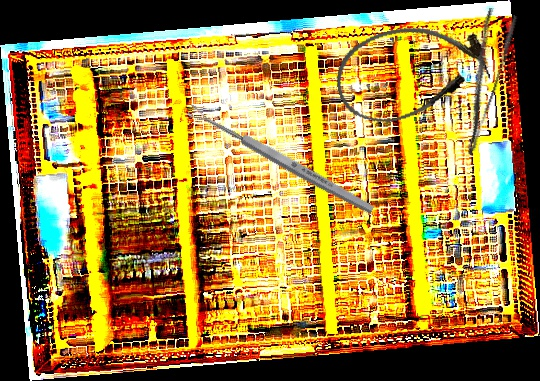Cannula: (327, 11, 496, 132)
Dressing Forceps: (443, 6, 521, 157)
Surgical Spoon: (186, 102, 376, 217)
